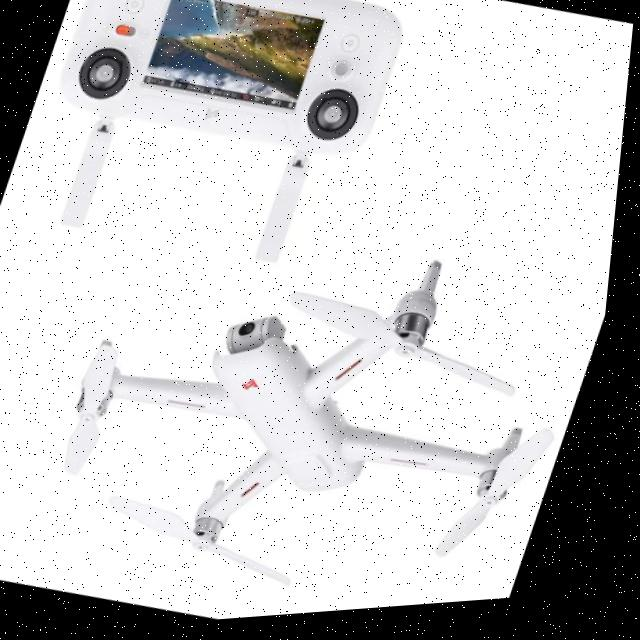drones: (13, 160, 625, 636)
